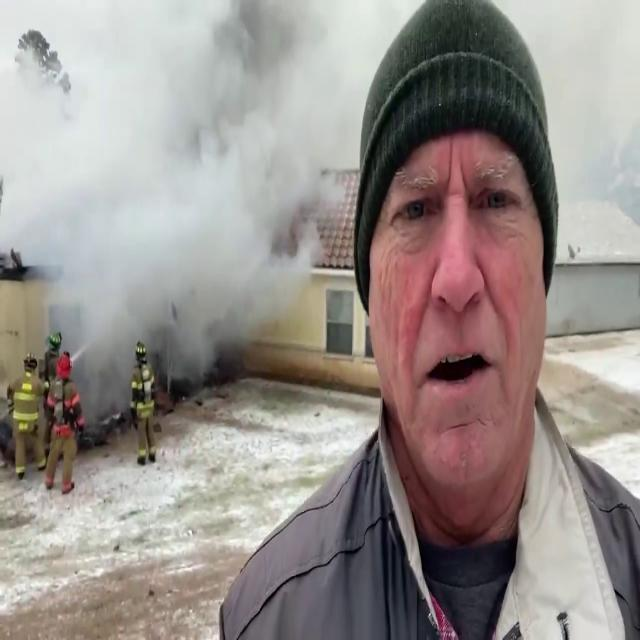Smoke: (1, 0, 395, 422)
